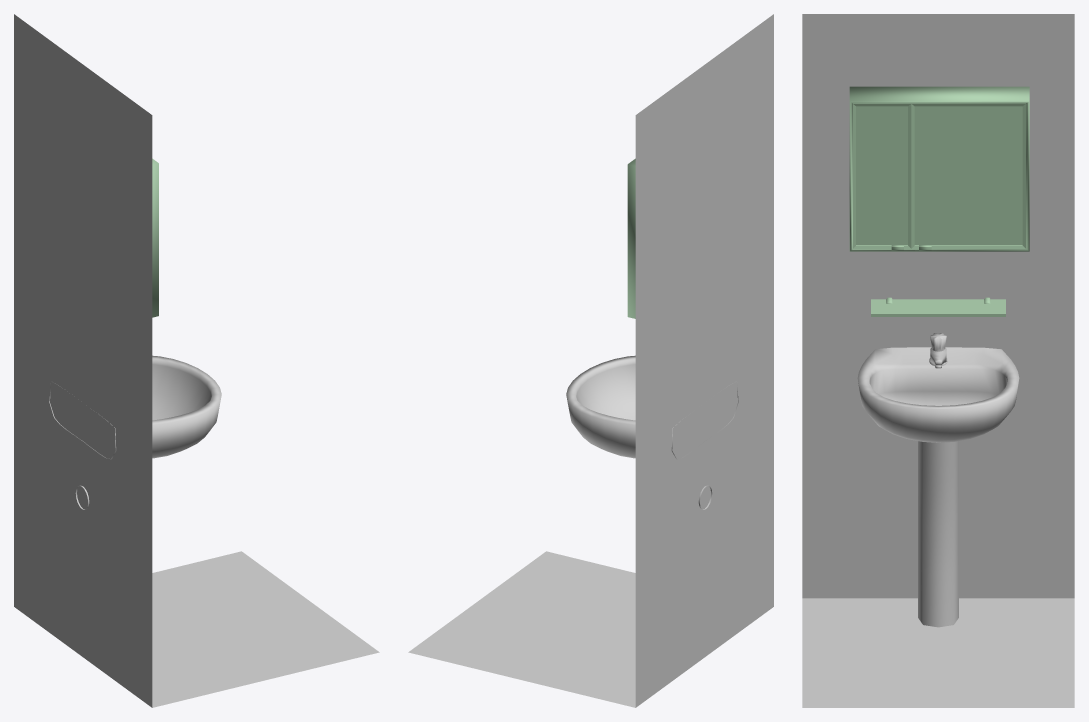
Rendered from pia_espelho.dae.
3 renders of one model, left to right at view 1: azimuth 30°, elevation 25°; view 2: azimuth 150°, elevation 25°; view 3: azimuth 270°, elevation 25°, orthographic.
Visible parts, largest first — view 1: Plane, pia_banheiro_low, base_espelho_banheiro_low; view 2: Plane, pia_banheiro_low, base_espelho_banheiro_low; view 3: Plane, porta_espelho_maior_low, pia_banheiro_low, porta_espelho_menor_low, base_pia_low, base_espelho_banheiro_low, suporte_banheiro_low.
Part boxes in pixels (x1,y1,x2,y2): Plane: (14, 14, 379, 707); pia_banheiro_low: (49, 355, 221, 459); base_espelho_banheiro_low: (152, 158, 158, 317); Plane: (408, 14, 773, 707); pia_banheiro_low: (566, 355, 738, 459); base_espelho_banheiro_low: (627, 158, 635, 318); Plane: (802, 14, 1074, 707); porta_espelho_maior_low: (911, 103, 1025, 248); pia_banheiro_low: (857, 347, 1019, 442); porta_espelho_menor_low: (853, 103, 911, 248); base_pia_low: (918, 441, 958, 627); base_espelho_banheiro_low: (849, 86, 1029, 251); suporte_banheiro_low: (871, 299, 1005, 316).
Size of the model in its own units: 0.7526 by 0.7871 by 1.86.
